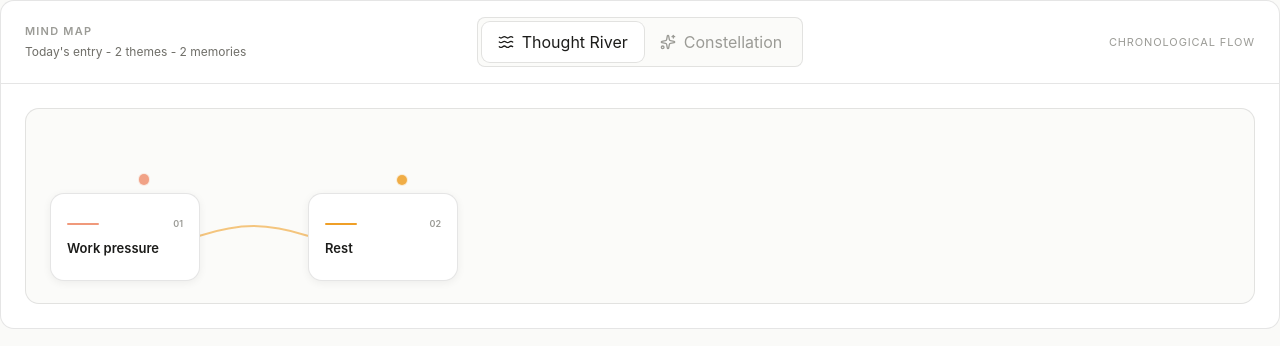
it: MapViews › renders river cards and shows grouped memories in the detail panel
Expected: the button "Thought River" is shown, x1=482 y1=22 x2=644 y2=62
Expected: the text "Work pressure" is shown, x1=67 y1=240 x2=159 y2=256
Click the button "01 Work pressure" at (125, 237), box x1=50 y1=193 x2=200 y2=281
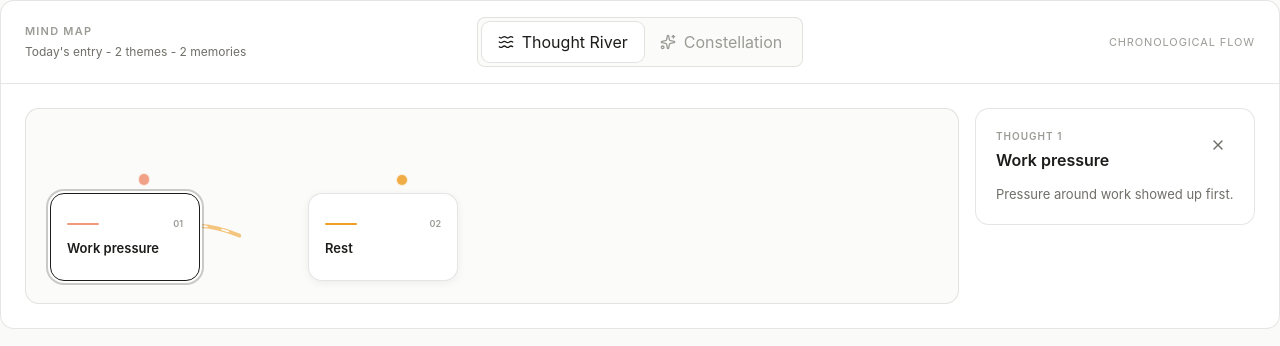
Expected: the text "Work pressure is connected to wanting more breathing room." is not shown
Now the element named "Work pressure thought details" is shown, box x1=975 y1=108 x2=1255 y2=225
Now the text "Pressure around work showed up first." is shown, box x1=996 y1=184 x2=1234 y2=204
Click the button named "View memory: Work pressure is connected to wanting more brea" at (144, 180), box x1=139 y1=174 x2=149 y2=185
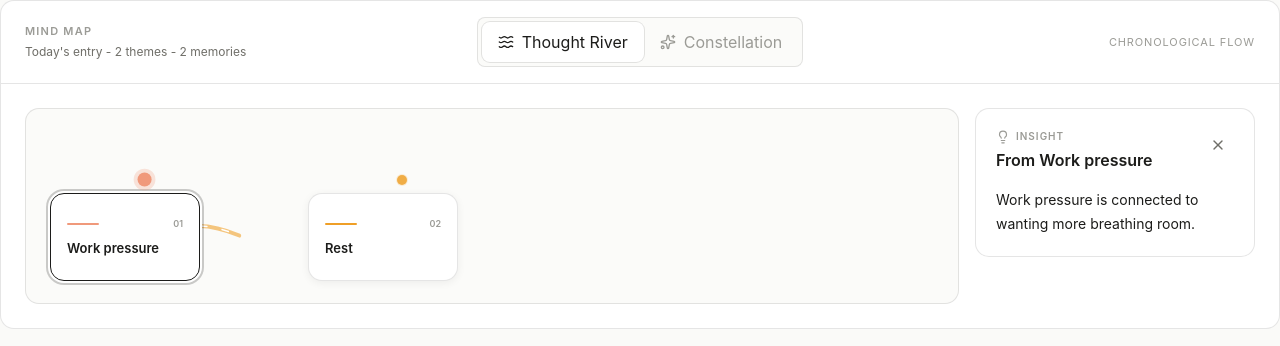
Now the element named "Work pressure memory details" is shown, box x1=975 y1=108 x2=1255 y2=257
Now the text "Insight" is shown, box x1=996 y1=130 x2=1064 y2=144
Now the text "Work pressure is connected to wanting more breathing room." is shown, box x1=996 y1=188 x2=1234 y2=236
